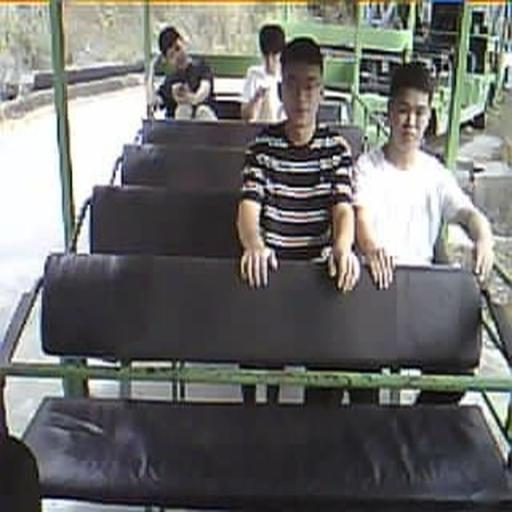persona: (353, 60, 495, 291), (235, 36, 361, 294), (148, 24, 218, 122), (240, 23, 289, 122)
